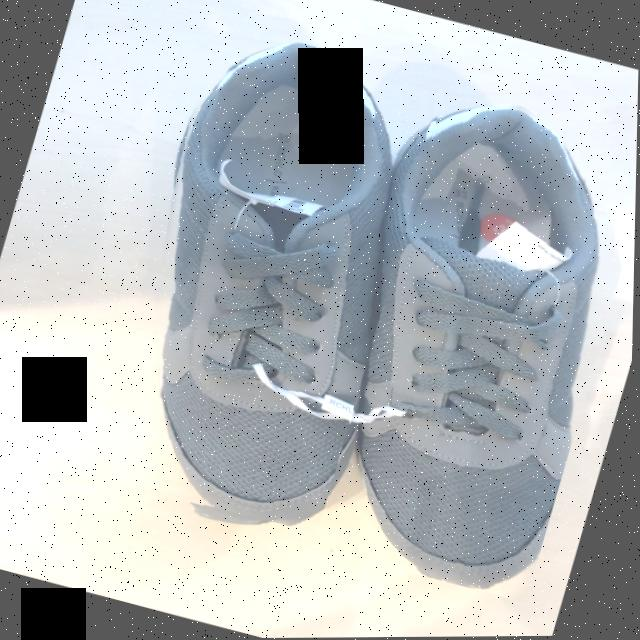shoe: (359, 99, 599, 595), (160, 46, 393, 521)
